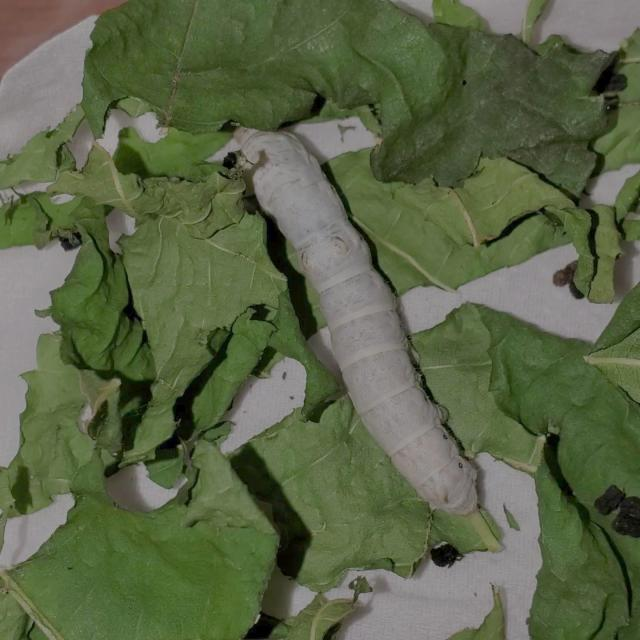Healthy: (203, 93, 495, 526)
